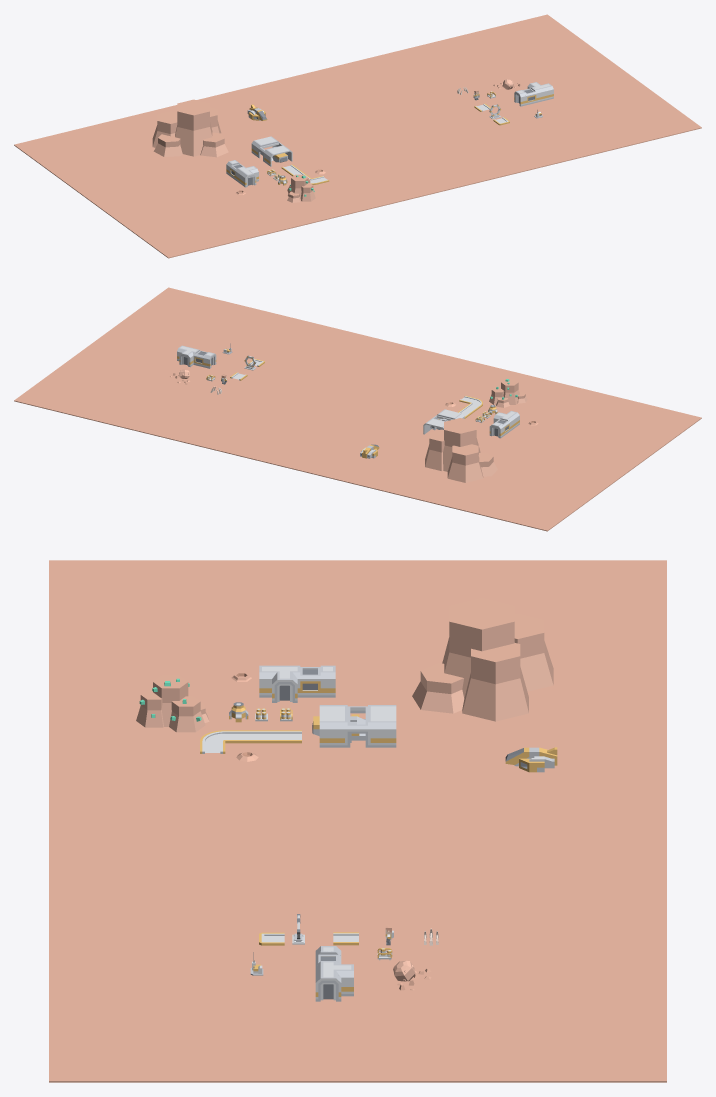
The picture shows the model from 3 angles, top to bottom: view 1: azimuth 30°, elevation 25°; view 2: azimuth 150°, elevation 25°; view 3: azimuth 270°, elevation 25°; orthographic projection. The views are drawn at different scales.
Parts seen in each view (by area): view 1: Cube.001, Cube, rock_largeA, hangar_largeA, rock_crystalsLargeA; view 2: Cube.001, Cube, rock_largeA, rock_crystalsLargeA, hangar_largeA; view 3: Cube.001, Cube, rock_largeA, hangar_largeA, rock_crystalsLargeA, craft_racer, corridor_windowClosed.
Boxes of the visible parts, x1,y1,x2,y2 form: Cube.001: (282, 14, 701, 192); Cube: (14, 79, 435, 258); rock_largeA: (152, 99, 228, 157); hangar_largeA: (251, 136, 292, 166); rock_crystalsLargeA: (287, 174, 315, 202); Cube.001: (14, 287, 433, 465); Cube: (280, 352, 701, 531); rock_largeA: (425, 418, 497, 482); rock_crystalsLargeA: (489, 379, 527, 407); hangar_largeA: (423, 409, 464, 434); Cube.001: (49, 820, 666, 1082); Cube: (49, 560, 666, 819); rock_largeA: (412, 598, 553, 721); hangar_largeA: (319, 705, 396, 747); rock_crystalsLargeA: (136, 675, 209, 732); craft_racer: (505, 747, 557, 772); corridor_windowClosed: (297, 665, 322, 697).
Size of the model in its own units: 48.23 by 3.44 by 24.18.
